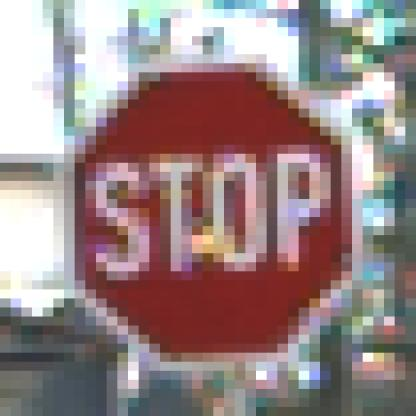Stop: (60, 65, 359, 362)
